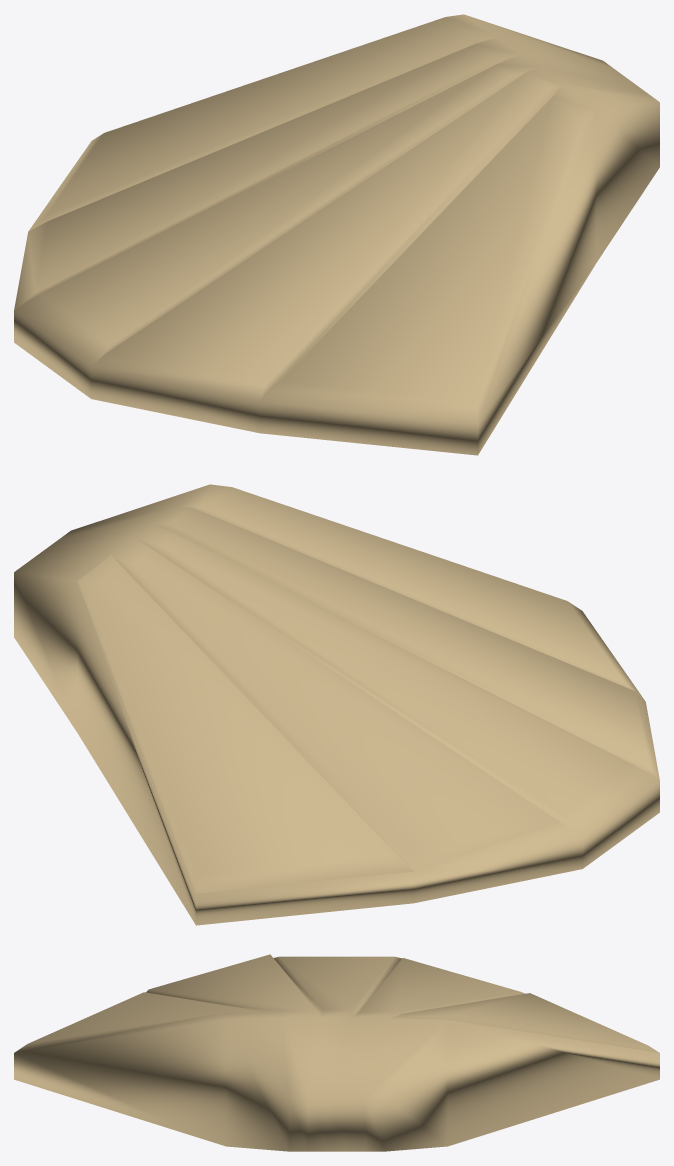
Rendered from Shell.fbx.
3 views of the same model, one above another, from view 1: azimuth 30°, elevation 25°; view 2: azimuth 150°, elevation 25°; view 3: azimuth 270°, elevation 25° (orthographic). The views are drawn at different scales.
Visible parts, largest first — view 1: Cube; view 2: Cube; view 3: Cube.
Part boxes in pixels (<box>): Cube: <box>14,14,659,455</box>; Cube: <box>14,484,659,925</box>; Cube: <box>14,954,659,1151</box>.
Bounding box in the file's own units: 34.7 × 11.18 × 40.12.
